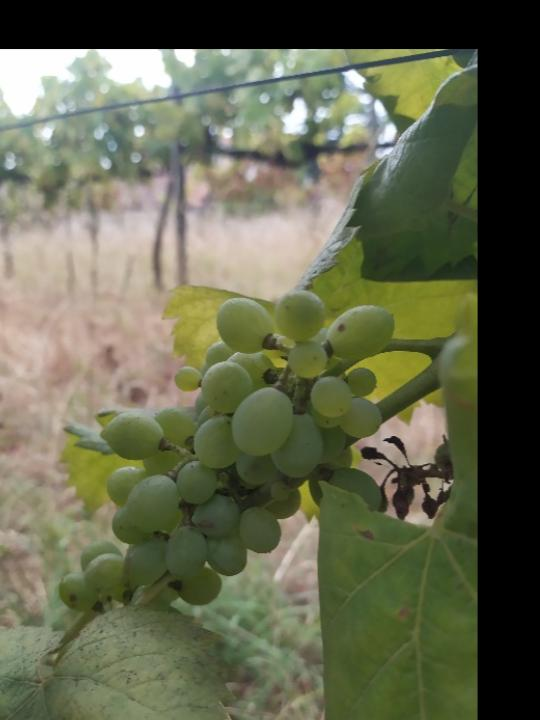grape: (56, 287, 400, 617)
